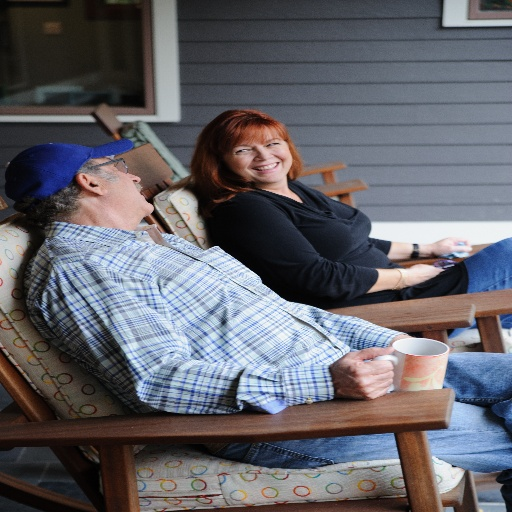hand: (331, 349, 415, 404), (402, 262, 446, 289), (430, 234, 476, 258)
